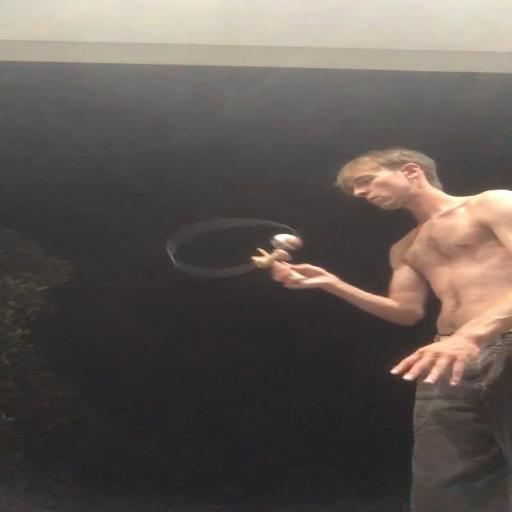kendama_ball: (270, 234, 302, 250)
